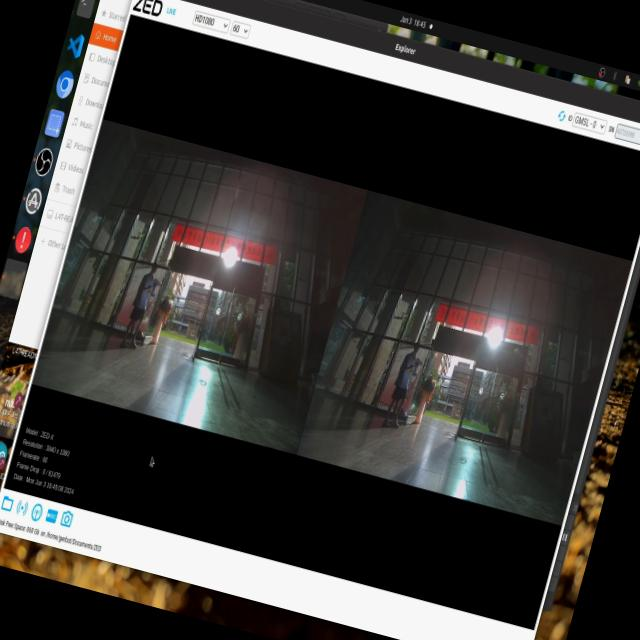blue: (143, 272, 162, 302), (406, 356, 422, 382)
